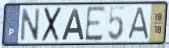5: (106, 5, 127, 43)
A: (125, 6, 151, 41), (60, 8, 85, 42)
E: (84, 5, 107, 44)
N: (19, 7, 41, 43)
X: (40, 6, 63, 44)
